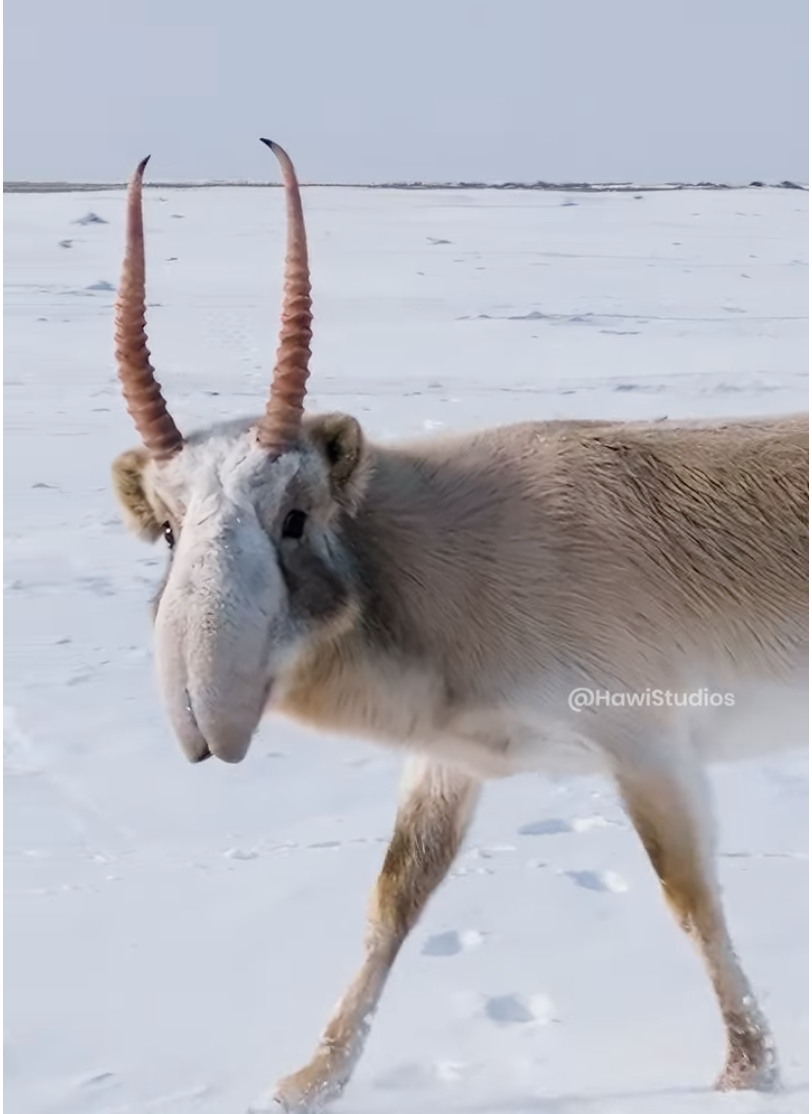saiga: (93, 144, 812, 1089)
